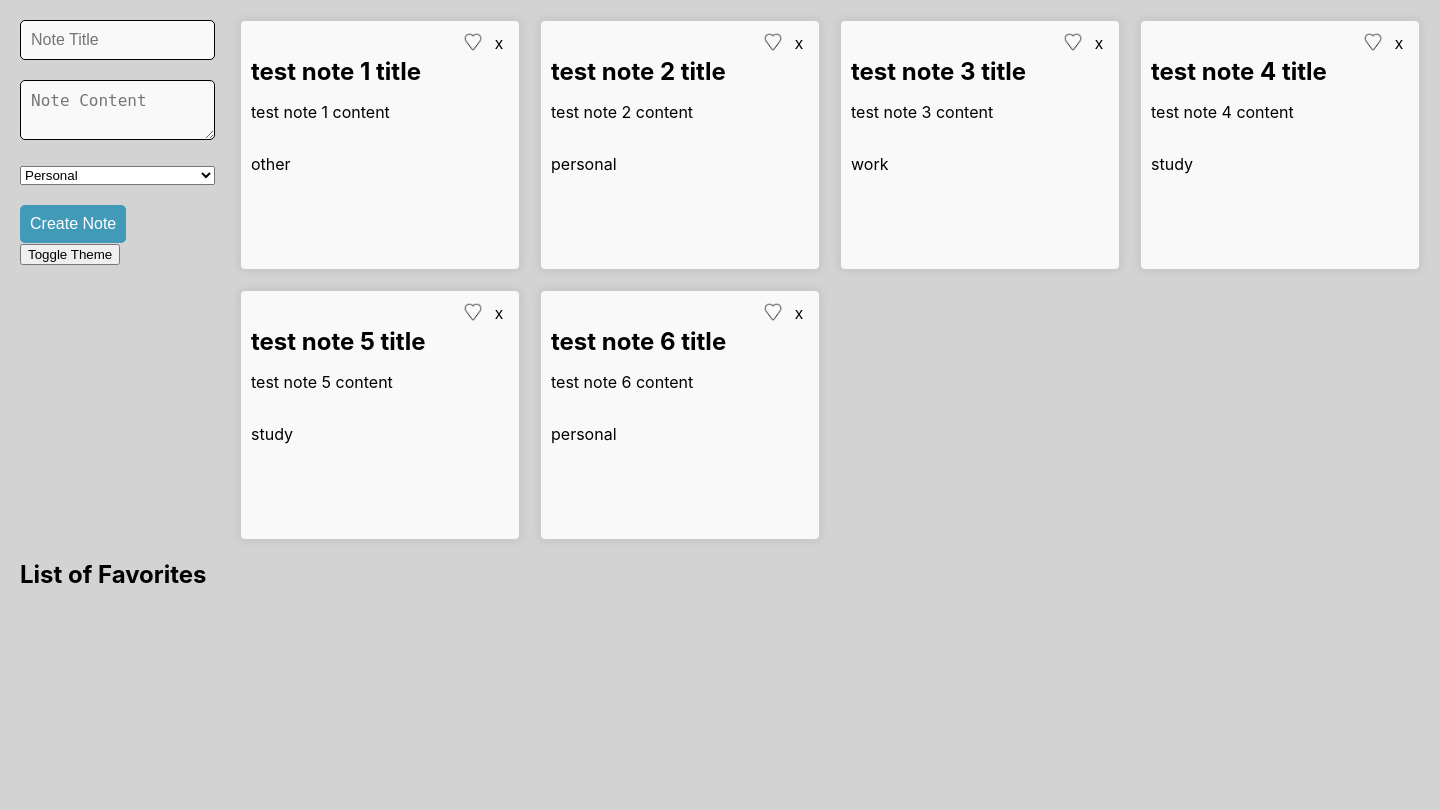
Scenario: delete notes
Type "New Note" into the field with placeholder "Note Title" at point(117, 40), box [20,20,214,60]
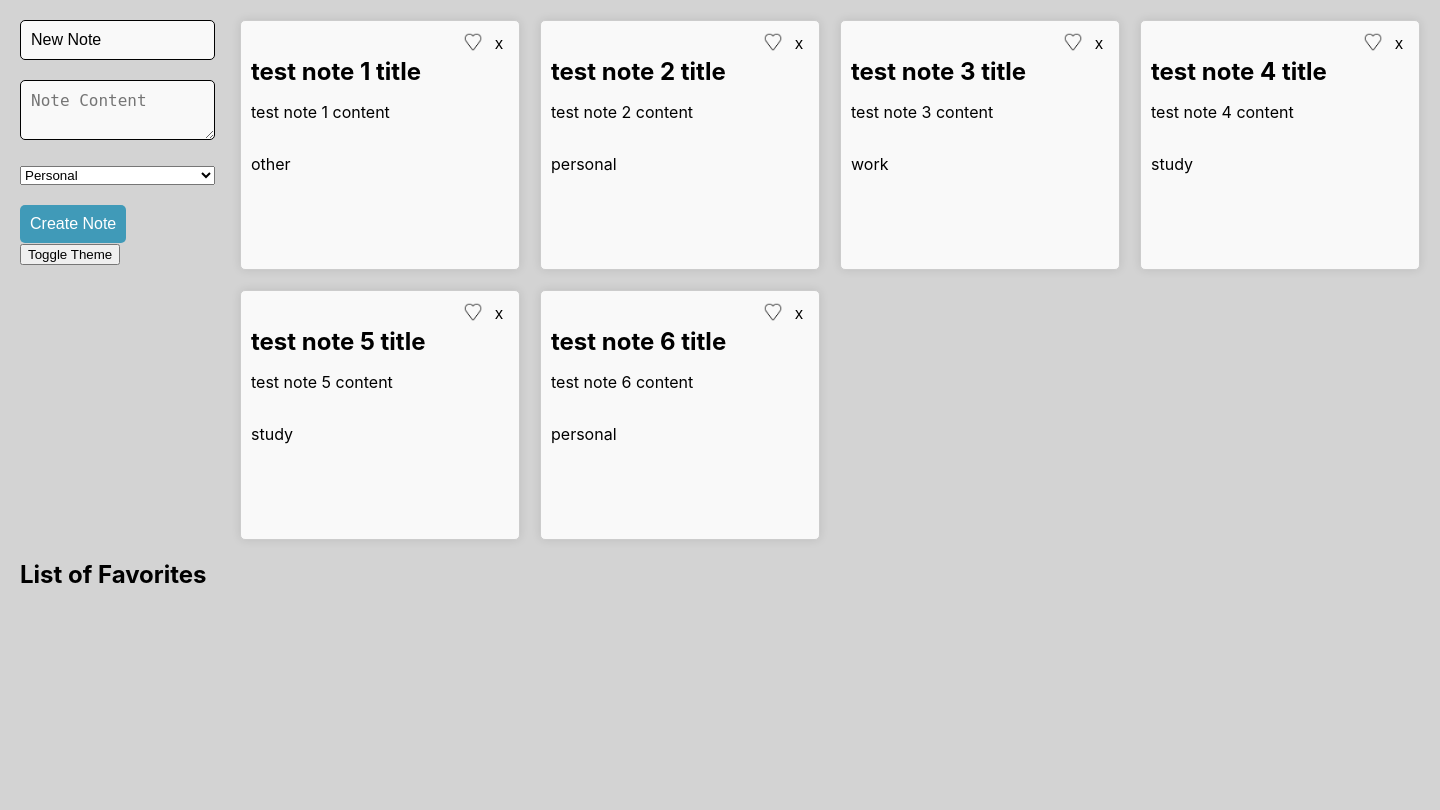
Type "Note content" into the text box with placeholder "Note Content" at point(117, 110), box [20,80,214,140]
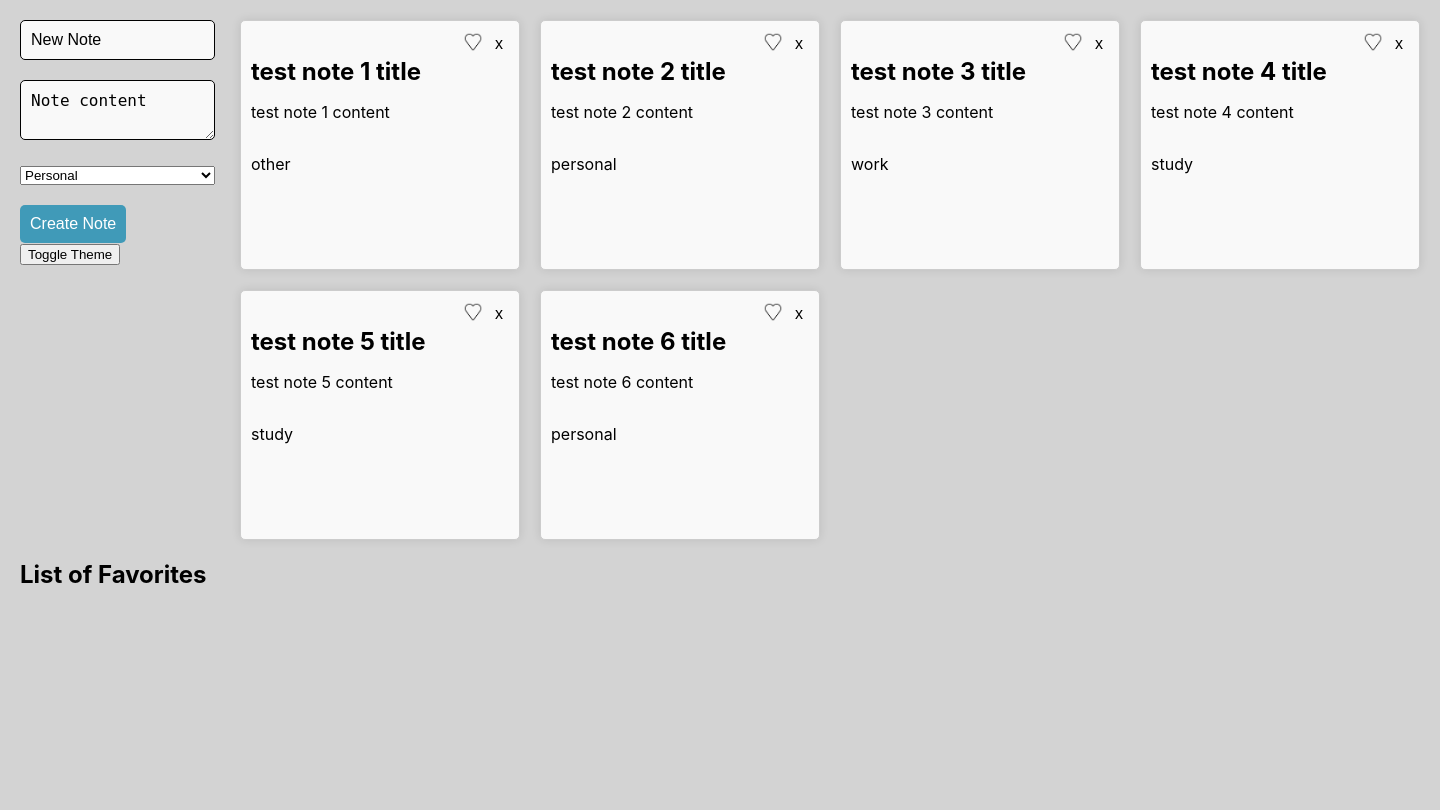
Click the button "Create Note" at point(73, 224), box [20,205,126,243]
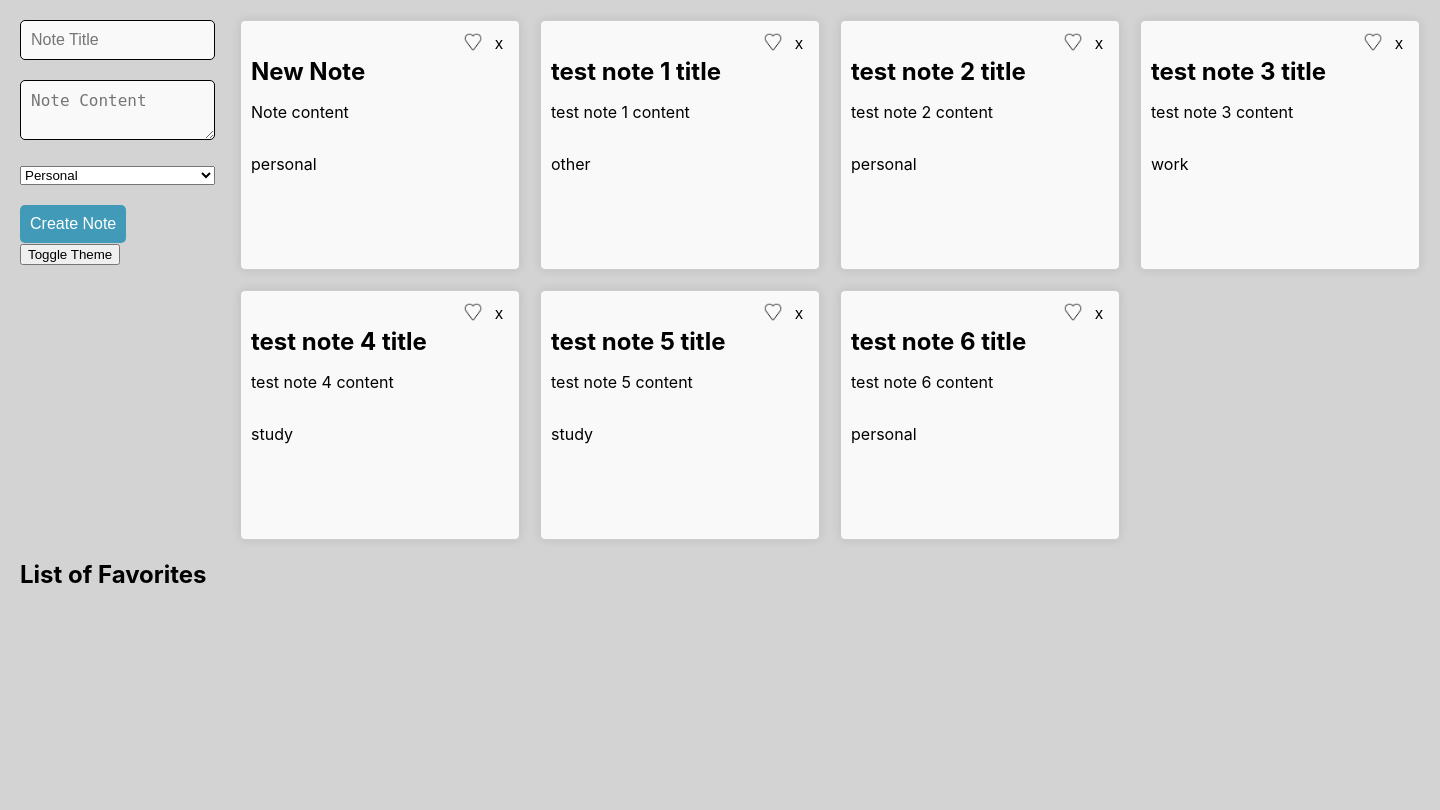
Check: the heading "New Note" is shown, box [251,57,365,86]
Check: the text "Note content" is shown, box [251,102,349,122]
Click the 1st button "x" at point(499, 44), box [489,31,509,57]
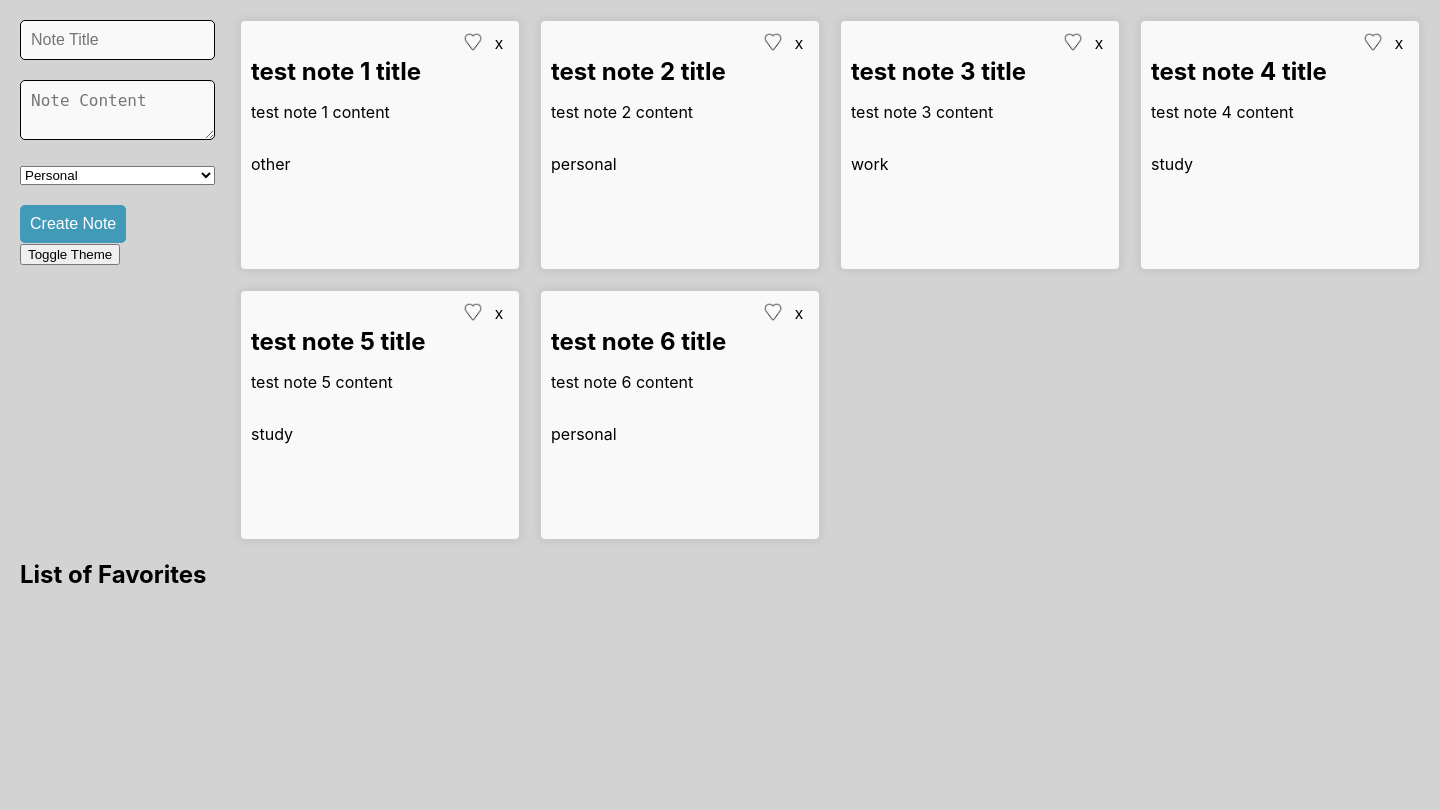
Check: the heading "New Note" is gone
